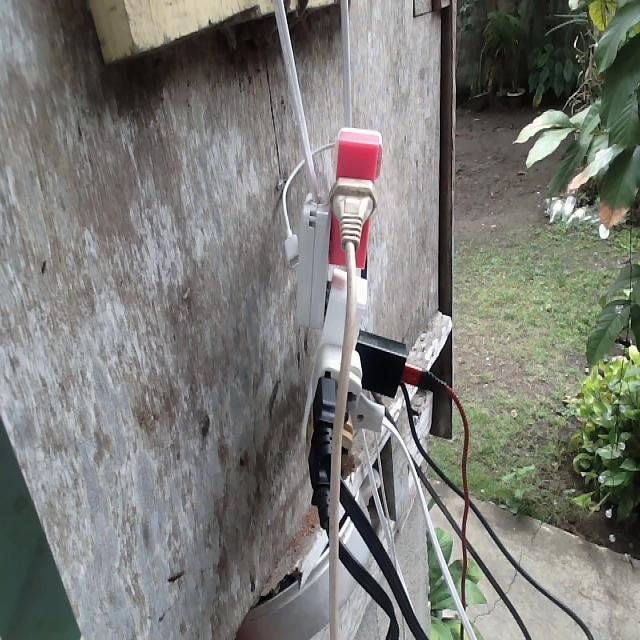-: (290, 121, 409, 496)
